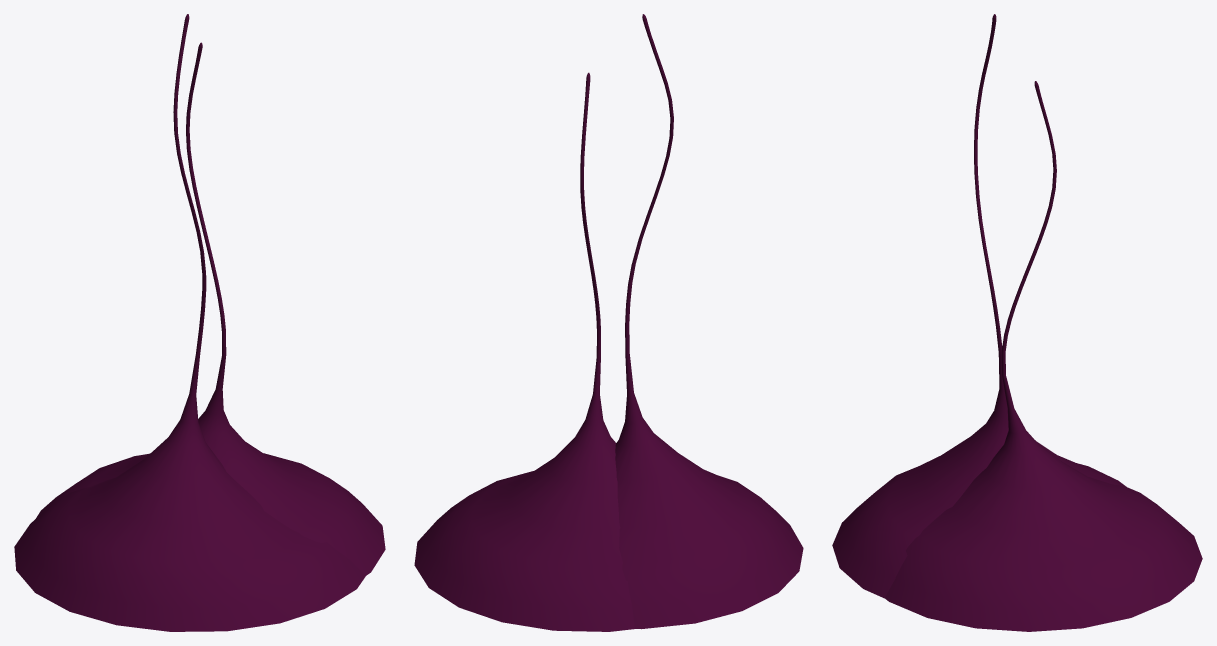
The model's file is Steel_03.fbx.
3 views of the same model, side by side, from view 1: azimuth 30°, elevation 25°; view 2: azimuth 150°, elevation 25°; view 3: azimuth 270°, elevation 25° (orthographic). The views are drawn at different scales.
Visible parts, largest first — view 1: pCylinder10, pCylinder9; view 2: pCylinder9, pCylinder10; view 3: pCylinder9, pCylinder10.
Part boxes in pixels (left/top/right/bottom): pCylinder10: left=14, top=14, right=365, bottom=631; pCylinder9: left=36, top=42, right=385, bottom=575; pCylinder9: left=414, top=72, right=634, bottom=631; pCylinder10: left=615, top=14, right=803, bottom=629; pCylinder9: left=885, top=81, right=1202, bottom=631; pCylinder10: left=832, top=14, right=1126, bottom=598.
Bounding box in the file's own units: 5.05 × 7.86 × 5.
